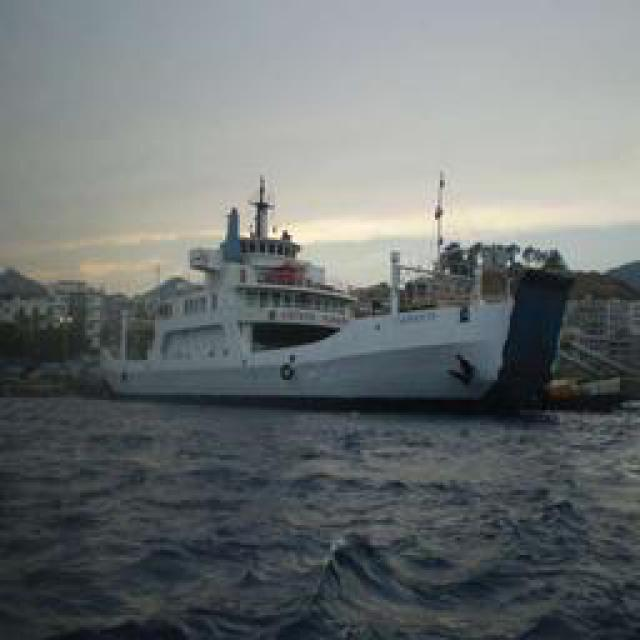Ship: (99, 165, 574, 405)
